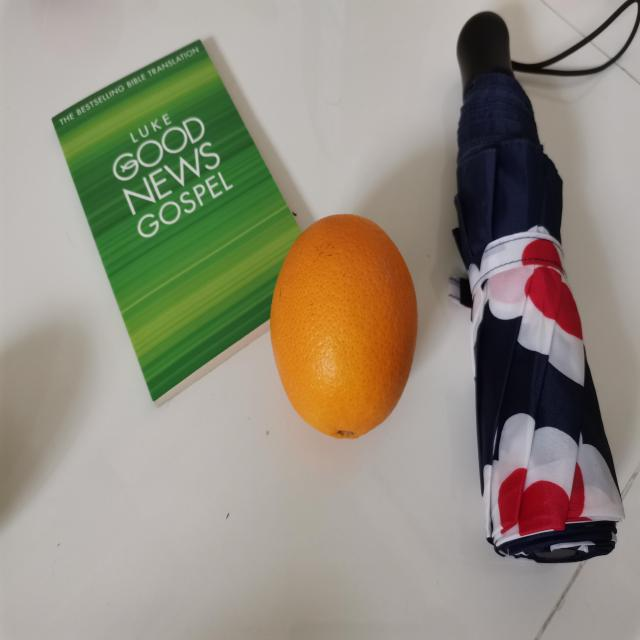Book: (51, 37, 305, 407)
Orange: (268, 214, 422, 439)
